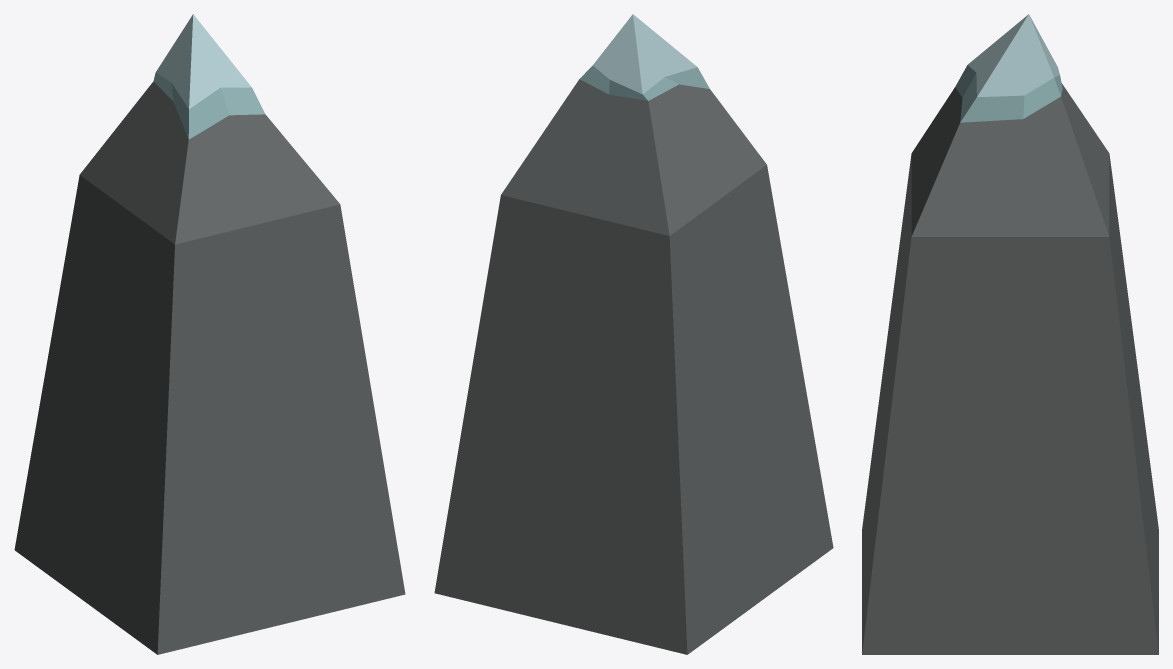
File: MountainTile_2.fbx
3 renders of one model, left to right at view 1: azimuth 30°, elevation 25°; view 2: azimuth 150°, elevation 25°; view 3: azimuth 270°, elevation 25°, orthographic. The views are drawn at different scales.
Visible parts, largest first — view 1: MountainTile_2; view 2: MountainTile_2; view 3: MountainTile_2.
Part boxes in pixels (x1,y1,x2,y2): MountainTile_2: [14, 14, 405, 654]; MountainTile_2: [434, 14, 833, 654]; MountainTile_2: [862, 14, 1158, 654].
Bounding box in the file's own units: 3.15 × 3.15 × 6.73.
